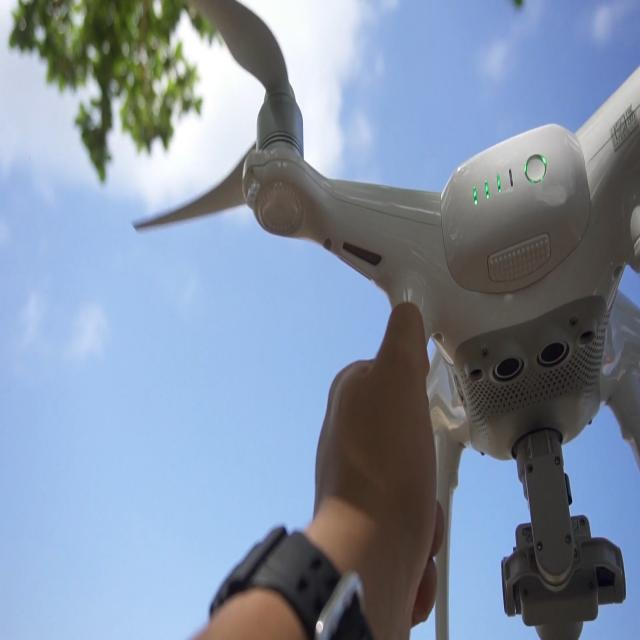Drone: (154, 8, 640, 601)
